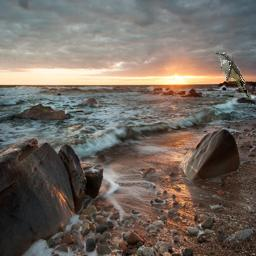Cuckoo: (215, 52, 252, 100)
